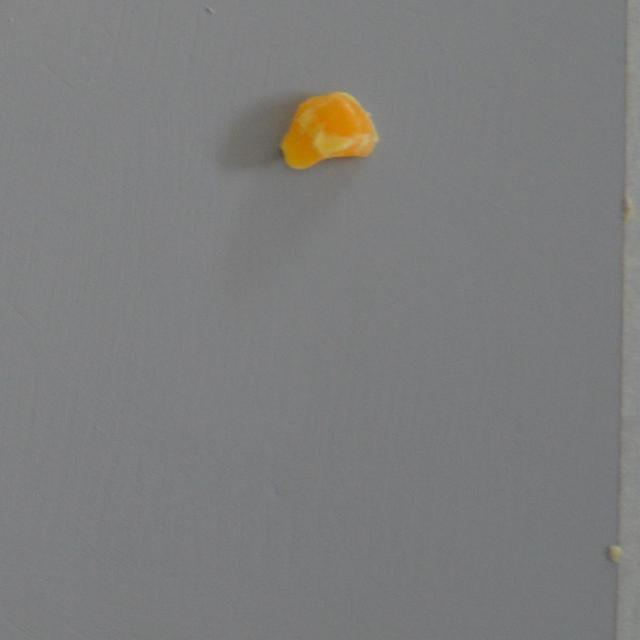pelicula: (280, 90, 379, 170)
